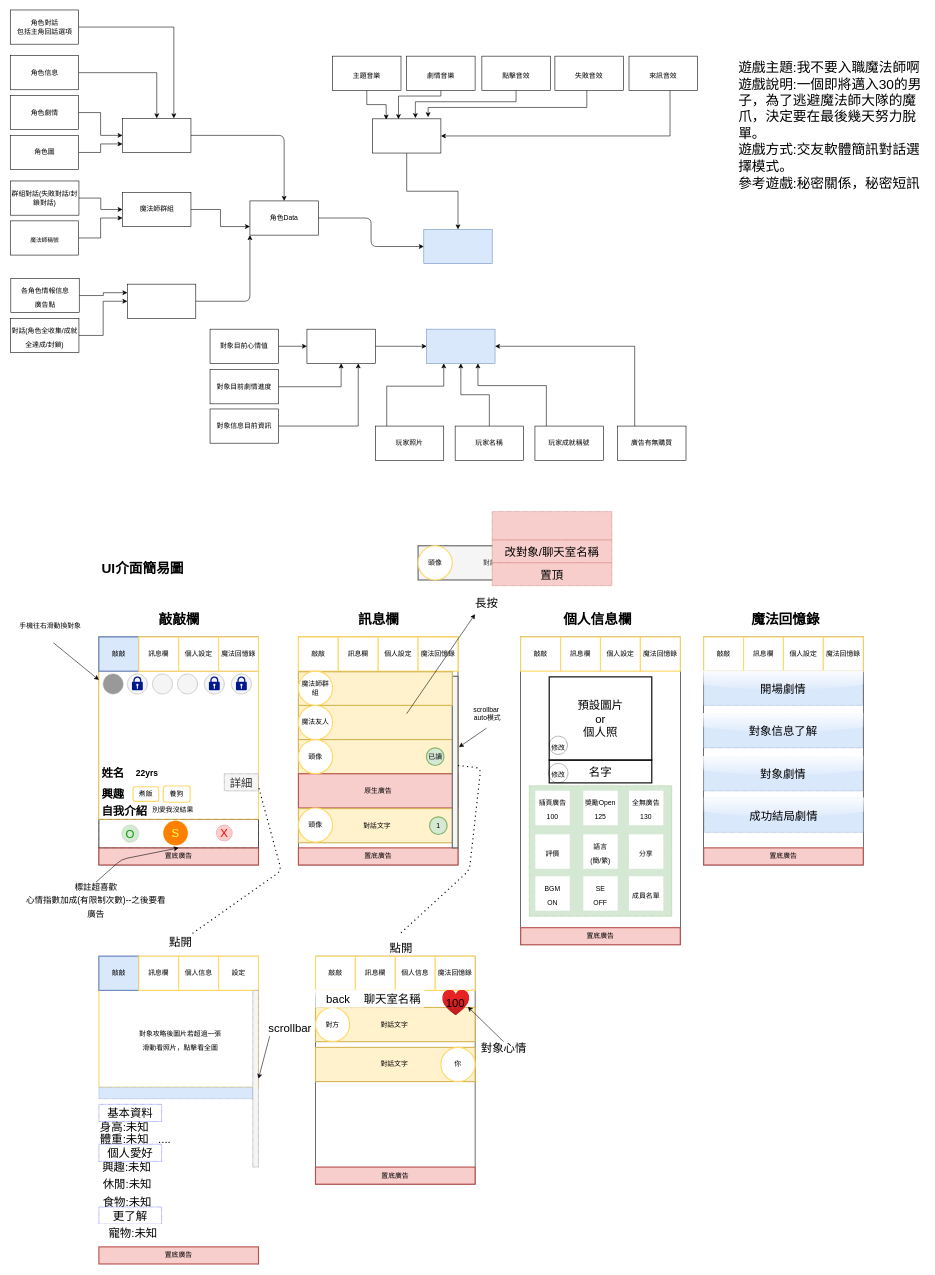
Some shapes in this 935 by 1275 pixel diagram are drawn without their labels. The shapes that lost their labels are listed below. From the top down, each one's box as (x1, y1, x2, y2) in pixels, then its label:
(122, 118, 191, 152): 攻略對象*5
(372, 118, 441, 153): 音樂/音效
(423, 229, 492, 264): Game Data Manager
(127, 284, 196, 318): 男性魔法友人
(306, 329, 375, 363): 解鎖對象
(426, 329, 495, 363): Player Data Manager
(492, 511, 612, 540): 封鎖(群組/友人)/重來(對象-廣告點)
(298, 671, 453, 706): 魔法師成就稱號區
(298, 705, 458, 740): 調查女方愛好/訊息加速
(98, 670, 259, 820): 對象圖片，未解鎖，模糊
(298, 739, 458, 774): 對象已把你封鎖
(98, 1087, 253, 1099): 詳細信息
